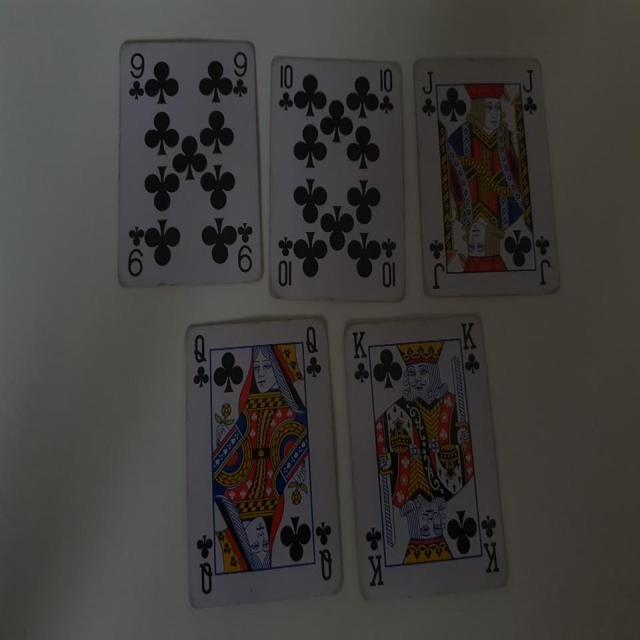10 Trefoils: (265, 57, 409, 302)
9 Trefoils: (117, 38, 264, 289)
J Trefoils: (413, 57, 561, 299)
K Trefoils: (343, 313, 512, 600)
Q Trefoils: (184, 315, 347, 606)
